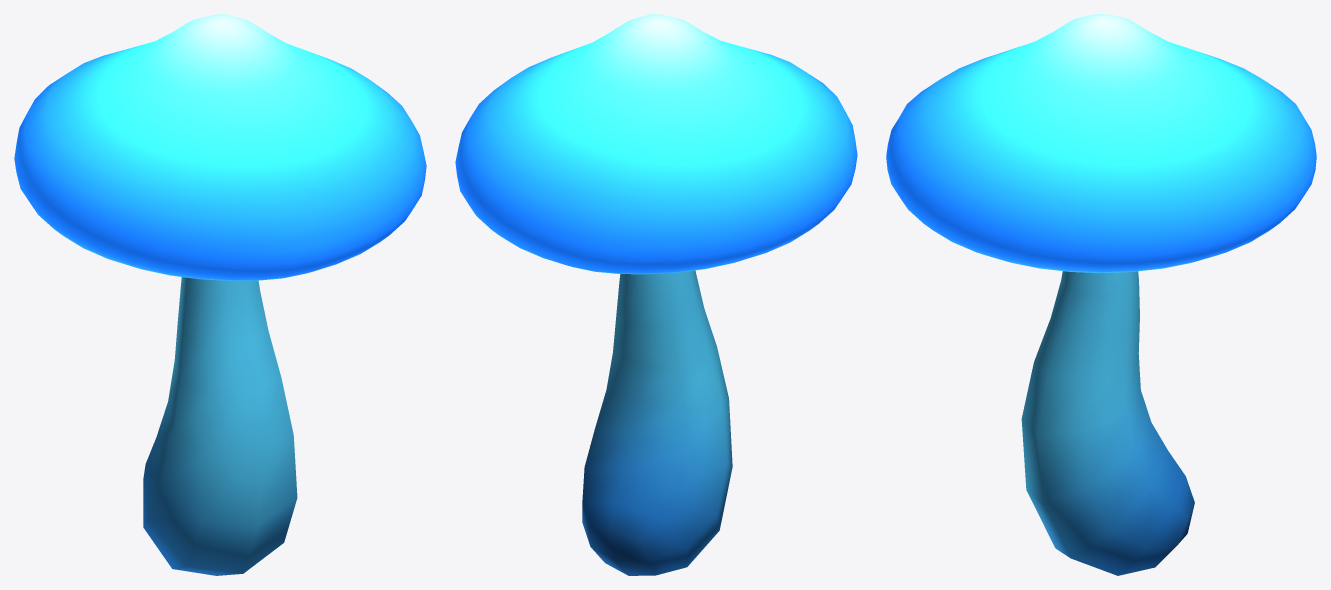
Rendered from Champignon.fbx.
3 renders of one model, left to right at view 1: azimuth 30°, elevation 25°; view 2: azimuth 150°, elevation 25°; view 3: azimuth 270°, elevation 25°, orthographic. The views are drawn at different scales.
Parts seen in each view (by area): view 1: Champignon; view 2: Champignon; view 3: Champignon.
Boxes of the visible parts, box(x1,y1,x2,y2) form: Champignon: box(14, 14, 426, 575); Champignon: box(455, 14, 857, 575); Champignon: box(886, 14, 1316, 575).
Bounding box in the file's own units: 437 × 660 × 469.
